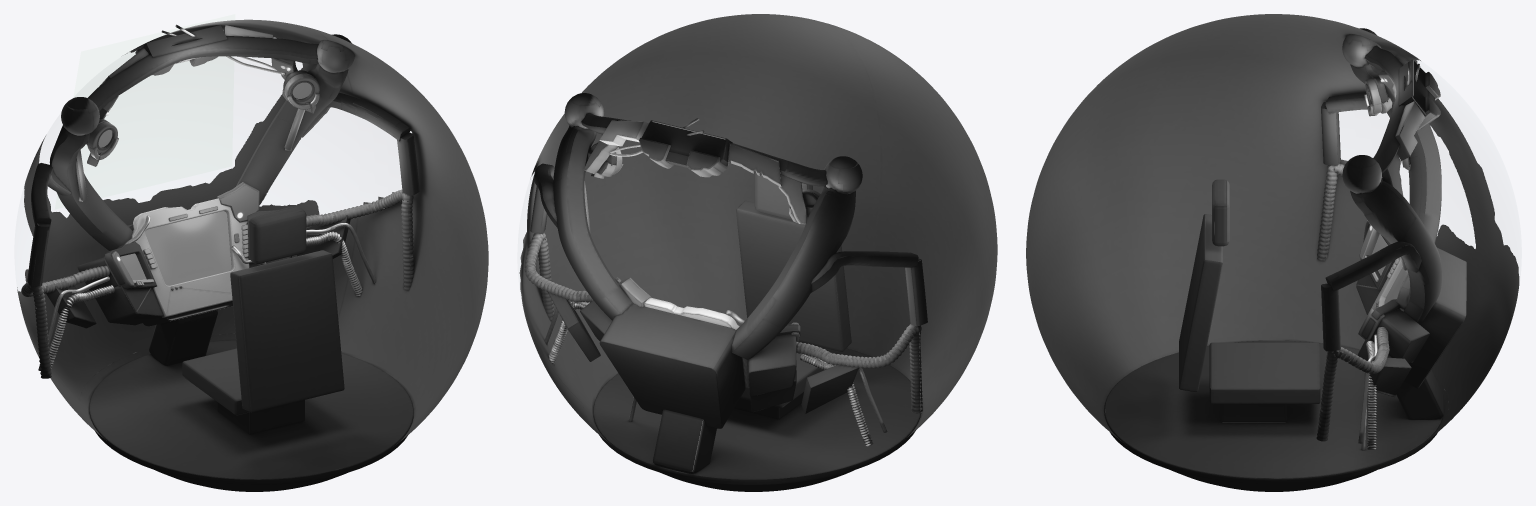
File: cockpit_001.glb
3 views of the same model, side by side, from view 1: azimuth 30°, elevation 25°; view 2: azimuth 150°, elevation 25°; view 3: azimuth 270°, elevation 25° (orthographic).
Visible parts, largest first — view 1: Hull, Floor, Seat_Back, MasterMonitor_Bezel, Screen_MasterMonitor, Header_Beam, Strut_R, Strut_L, Seat_Headrest, MasterMonitor_Pedestal, Seat_Pan, Hose_Sill_R (+18 smaller); view 2: Hull, Floor, MasterMonitor_Body, Seat_Back, Strut_L, Strut_R, MasterMonitor_Pedestal, Hose_Sill_L, SlaveMonitor0_Body, Header_Unit, Hose_Sill_R, SideFrame_L (+21 smaller); view 3: Hull, Floor, Seat_Pan, Strut_R, Seat_Back, MasterMonitor_Body, Strut_L, Hose_Sill_R, Header_Beam, SideFrame_R, SlaveMonitor1_Body, MasterMonitor_Pedestal (+13 smaller).
Boxes of the visible parts, x1,y1,x2,y2 form: Hull: [17, 19, 488, 491]; Floor: [89, 340, 413, 485]; Seat_Back: [230, 250, 344, 412]; MasterMonitor_Bezel: [131, 198, 249, 317]; Screen_MasterMonitor: [145, 211, 231, 285]; Header_Beam: [88, 36, 318, 110]; Strut_R: [236, 63, 348, 204]; Strut_L: [49, 125, 132, 250]; Seat_Headrest: [249, 207, 306, 263]; MasterMonitor_Pedestal: [149, 310, 217, 365]; Seat_Pan: [182, 348, 249, 415]; Hose_Sill_R: [306, 189, 413, 290]; Hull: [519, 14, 997, 491]; Floor: [593, 341, 921, 484]; MasterMonitor_Body: [599, 304, 745, 428]; Seat_Back: [736, 200, 851, 351]; Strut_L: [731, 186, 855, 359]; Strut_R: [553, 125, 633, 320]; MasterMonitor_Pedestal: [653, 409, 716, 472]; Hose_Sill_L: [796, 324, 922, 413]; SlaveMonitor0_Body: [748, 333, 796, 396]; Header_Unit: [641, 120, 732, 166]; Hose_Sill_R: [524, 232, 592, 321]; SideFrame_L: [811, 251, 918, 292]; Hull: [1026, 14, 1519, 491]; Floor: [1104, 340, 1442, 484]; Seat_Pan: [1209, 342, 1320, 403]; Strut_R: [1350, 180, 1441, 322]; Seat_Back: [1179, 214, 1222, 391]; MasterMonitor_Body: [1403, 247, 1466, 388]; Strut_L: [1350, 63, 1441, 243]; Hose_Sill_R: [1316, 327, 1389, 441]; Header_Beam: [1364, 45, 1405, 173]; SideFrame_R: [1325, 241, 1421, 290]; SlaveMonitor1_Body: [1371, 308, 1429, 363]; MasterMonitor_Pedestal: [1396, 370, 1443, 419].
Size of the model in its own units: 2.16 by 2.16 by 2.24.
3 materials, 1 textured.
